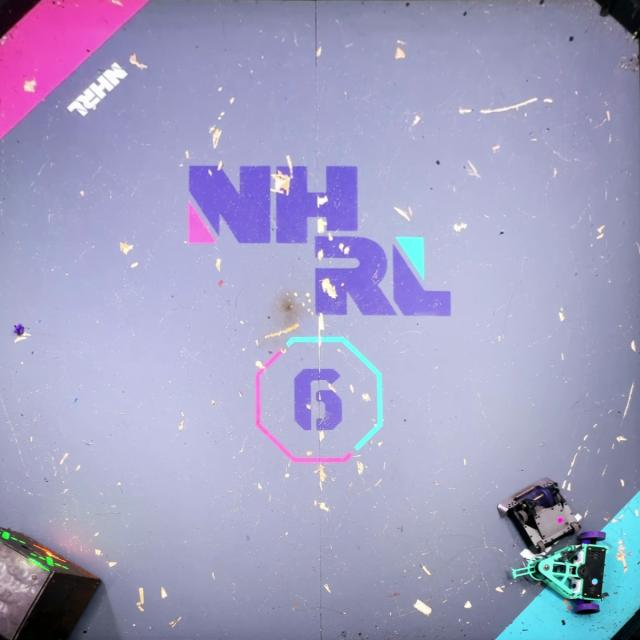housebot: (0, 525, 100, 640)
robot: (511, 530, 606, 616), (497, 477, 583, 555)
